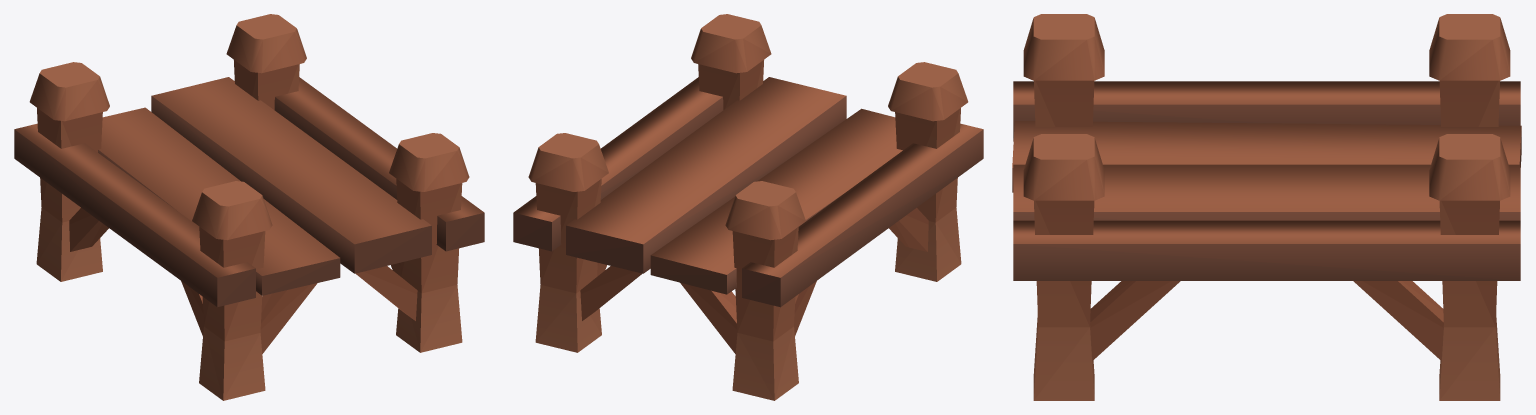
Rendered from pirate_structure_platform_dock_small.glb.
The picture shows the model from 3 angles, left to right: view 1: azimuth 30°, elevation 25°; view 2: azimuth 150°, elevation 25°; view 3: azimuth 270°, elevation 25°; orthographic projection. The views are drawn at different scales.
Visible parts, largest first — view 1: pirate_structure_platform_dock_small; view 2: pirate_structure_platform_dock_small; view 3: pirate_structure_platform_dock_small.
Boxes of the visible parts, x1,y1,x2,y2 form: pirate_structure_platform_dock_small: (14, 14, 484, 400); pirate_structure_platform_dock_small: (513, 14, 983, 400); pirate_structure_platform_dock_small: (1012, 14, 1521, 400).
Bounding box in the file's own units: 1.9 × 1.31 × 2.51.
